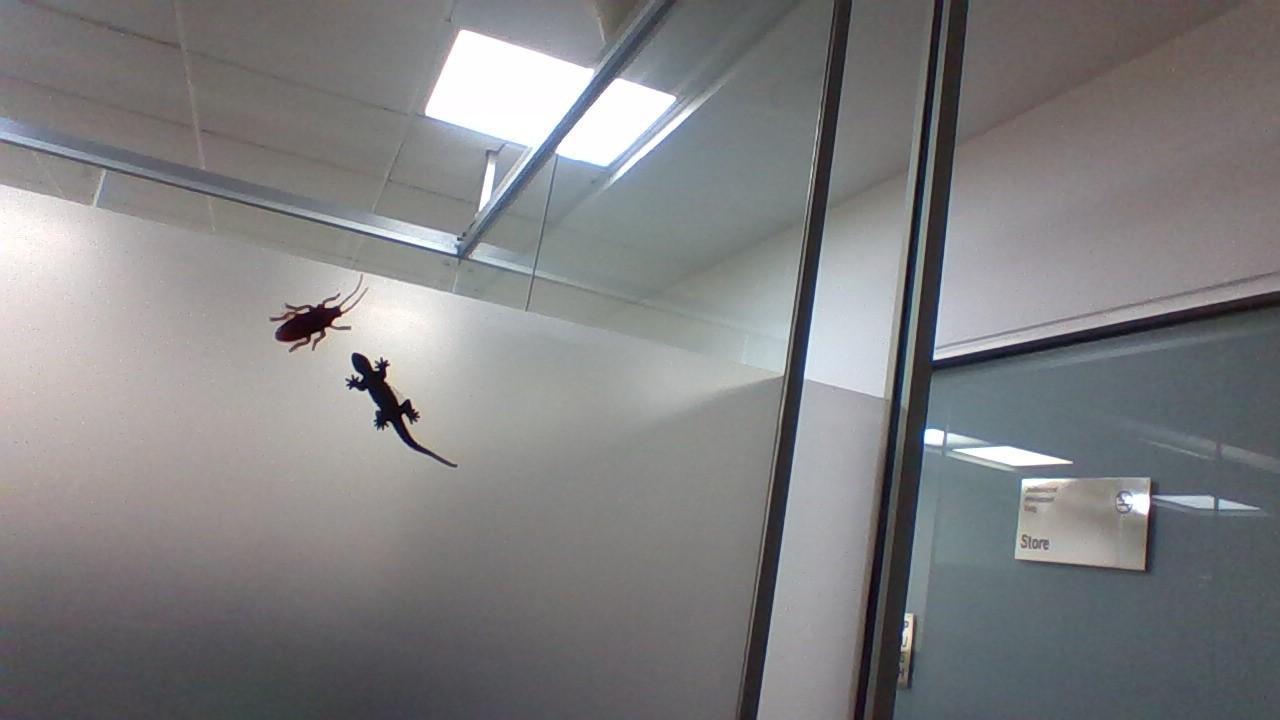cockroach: (253, 282, 365, 357)
lizard: (345, 343, 468, 486)
